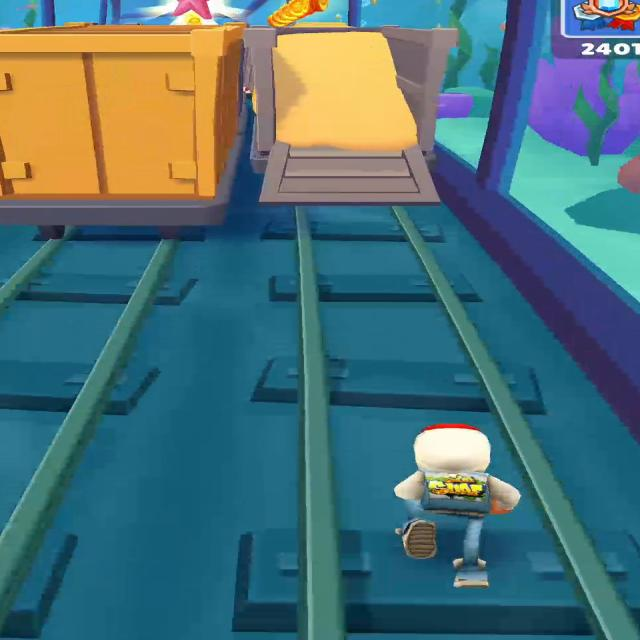climber: (258, 23, 446, 201)
train: (0, 18, 254, 226)
